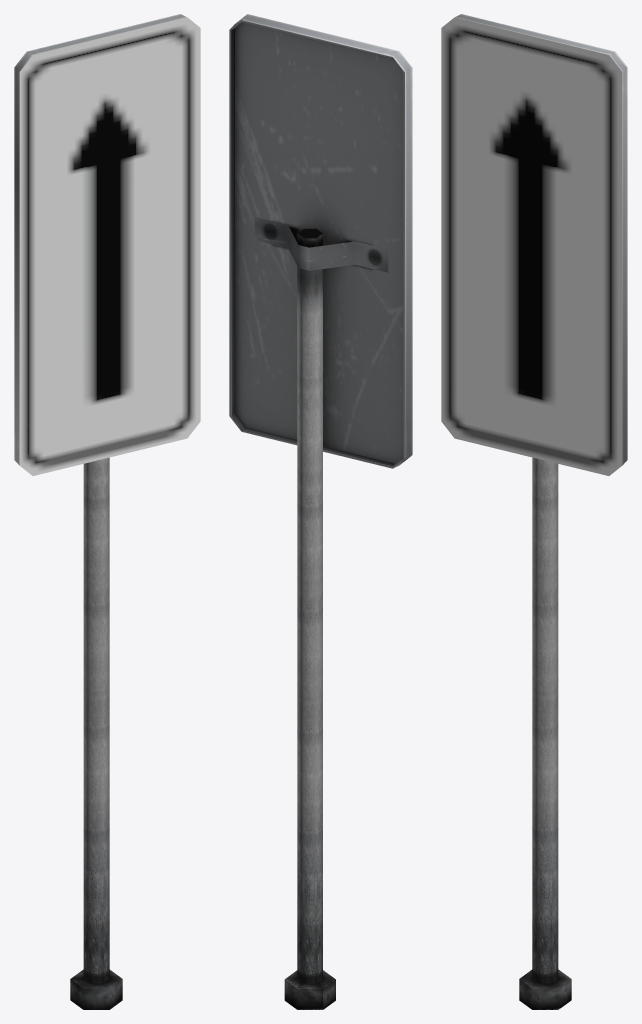
File: ROD0310055.FBX
3 renders of one model, left to right at view 1: azimuth 30°, elevation 25°; view 2: azimuth 150°, elevation 25°; view 3: azimuth 330°, elevation 25°, orthographic.
Parts seen in each view (by area): view 1: smROD0310055; view 2: smROD0310055; view 3: smROD0310055.
Part boxes in pixels (x1,y1,x2,y2): smROD0310055: (14, 14, 200, 1009); smROD0310055: (229, 14, 412, 1009); smROD0310055: (441, 14, 627, 1009).
Bounding box in the file's own units: 0.395 × 2.03 × 0.1004.
1 material, 1 textured.
